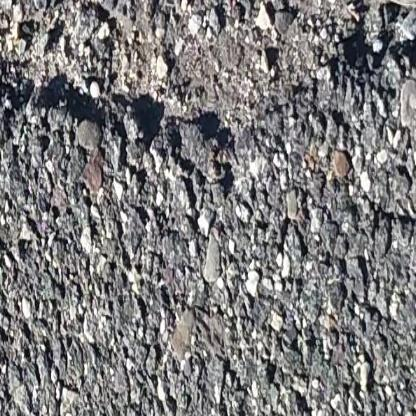Cracks: (0, 0, 416, 233)
